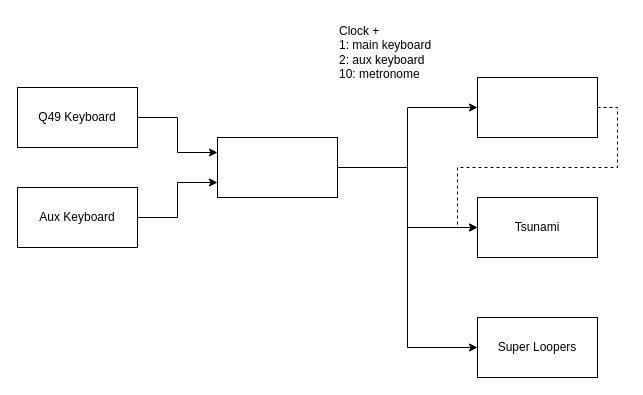
Image size: 643x395. Some labels were removed from this diagram. Each missing label, with the centre of its shape:
"Drum Patterns" belongs at (x=537, y=107).
"Midi Time Clock" belongs at (x=277, y=167).
